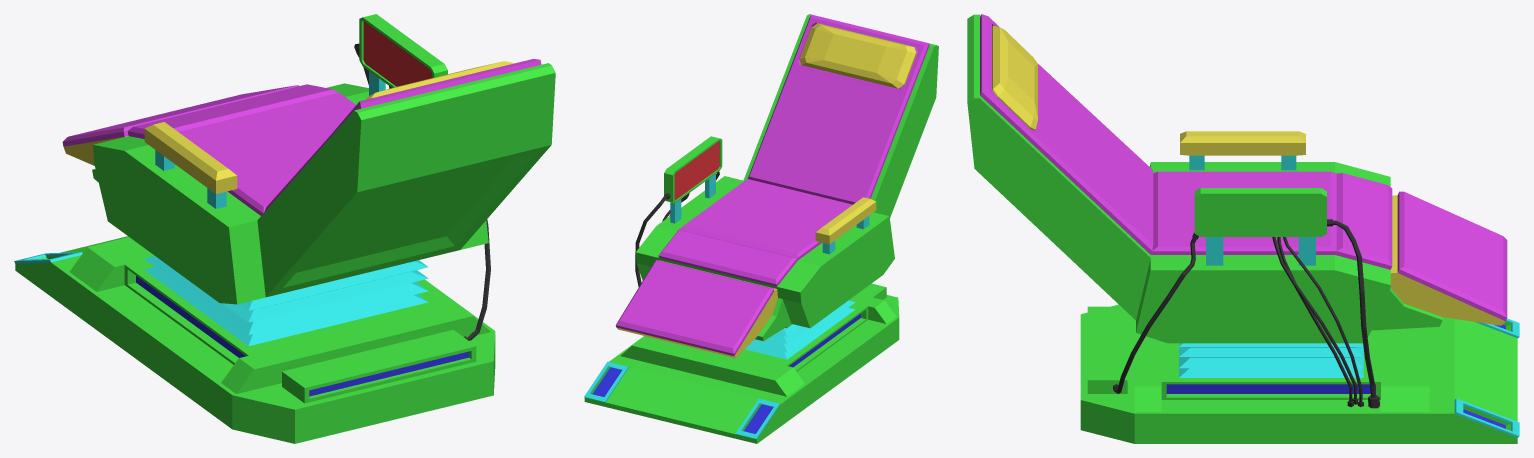
File: Chair_07_Ripperdocs_A.fbx
The picture shows the model from 3 angles, left to right: view 1: azimuth 30°, elevation 25°; view 2: azimuth 150°, elevation 25°; view 3: azimuth 270°, elevation 25°; orthographic projection. The views are drawn at different scales.
Visible parts, largest first — view 1: Chair_07_Ripperdocs_A; view 2: Chair_07_Ripperdocs_A; view 3: Chair_07_Ripperdocs_A.
Boxes of the visible parts, x1=… form: Chair_07_Ripperdocs_A: x1=14, y1=14, x2=555, y2=443; Chair_07_Ripperdocs_A: x1=584, y1=14, x2=938, y2=443; Chair_07_Ripperdocs_A: x1=967, y1=14, x2=1519, y2=443.
Size of the model in its own units: 121 by 161 by 240.
